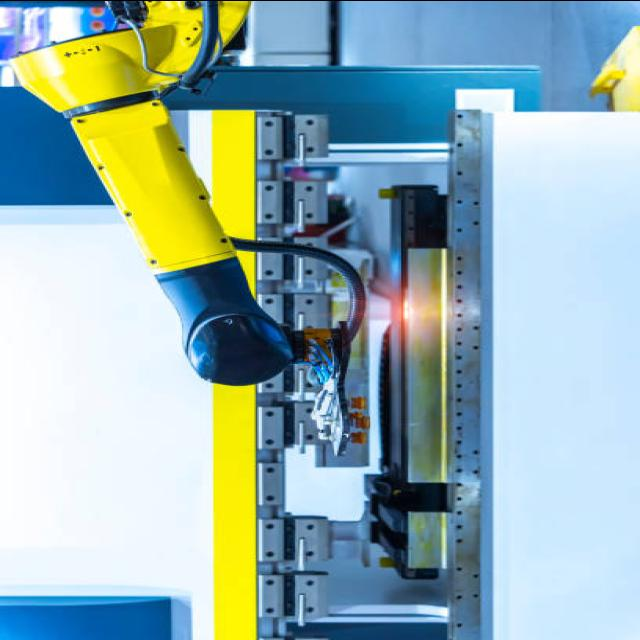Robotic-arm: (0, 0, 333, 386)
